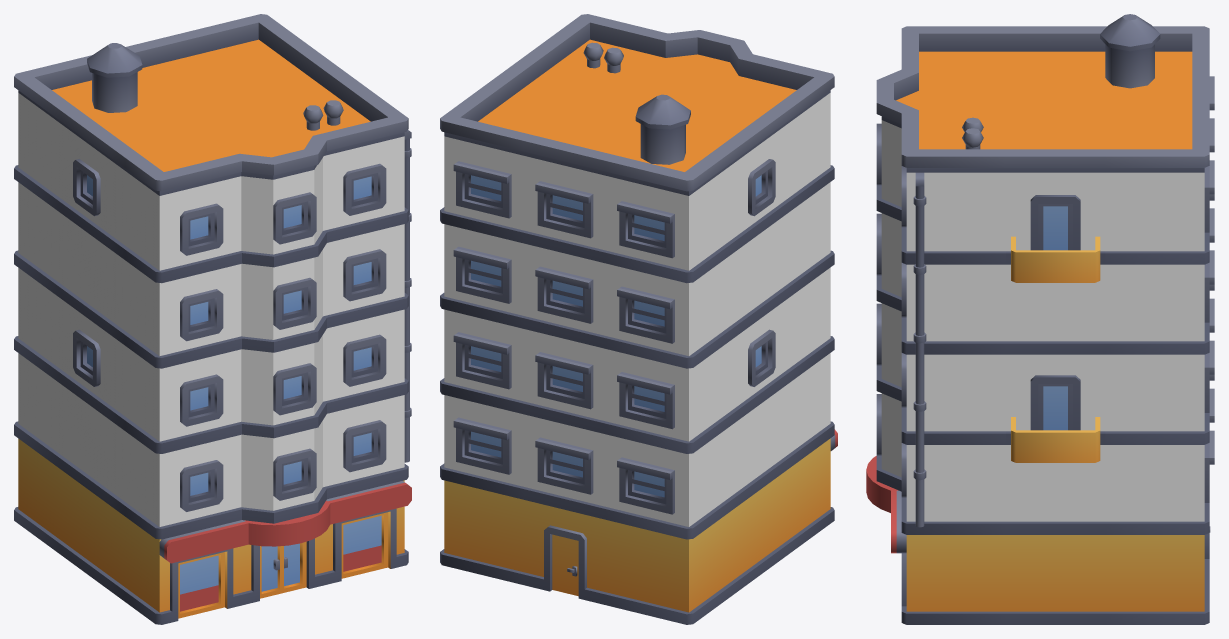
File: shop_level3.glb
The picture shows the model from 3 angles, left to right: view 1: azimuth 30°, elevation 25°; view 2: azimuth 150°, elevation 25°; view 3: azimuth 270°, elevation 25°; orthographic projection. The views are drawn at different scales.
Parts seen in each view (by area): view 1: building-l; view 2: building-l; view 3: building-l.
Part boxes in pixels (<box>): building-l: <box>14,14,411,624</box>; building-l: <box>440,14,837,624</box>; building-l: <box>866,14,1214,624</box>.
Size of the model in its own units: 1.37 by 2.27 by 1.4.
Materials: 1 (1 with a texture image).
